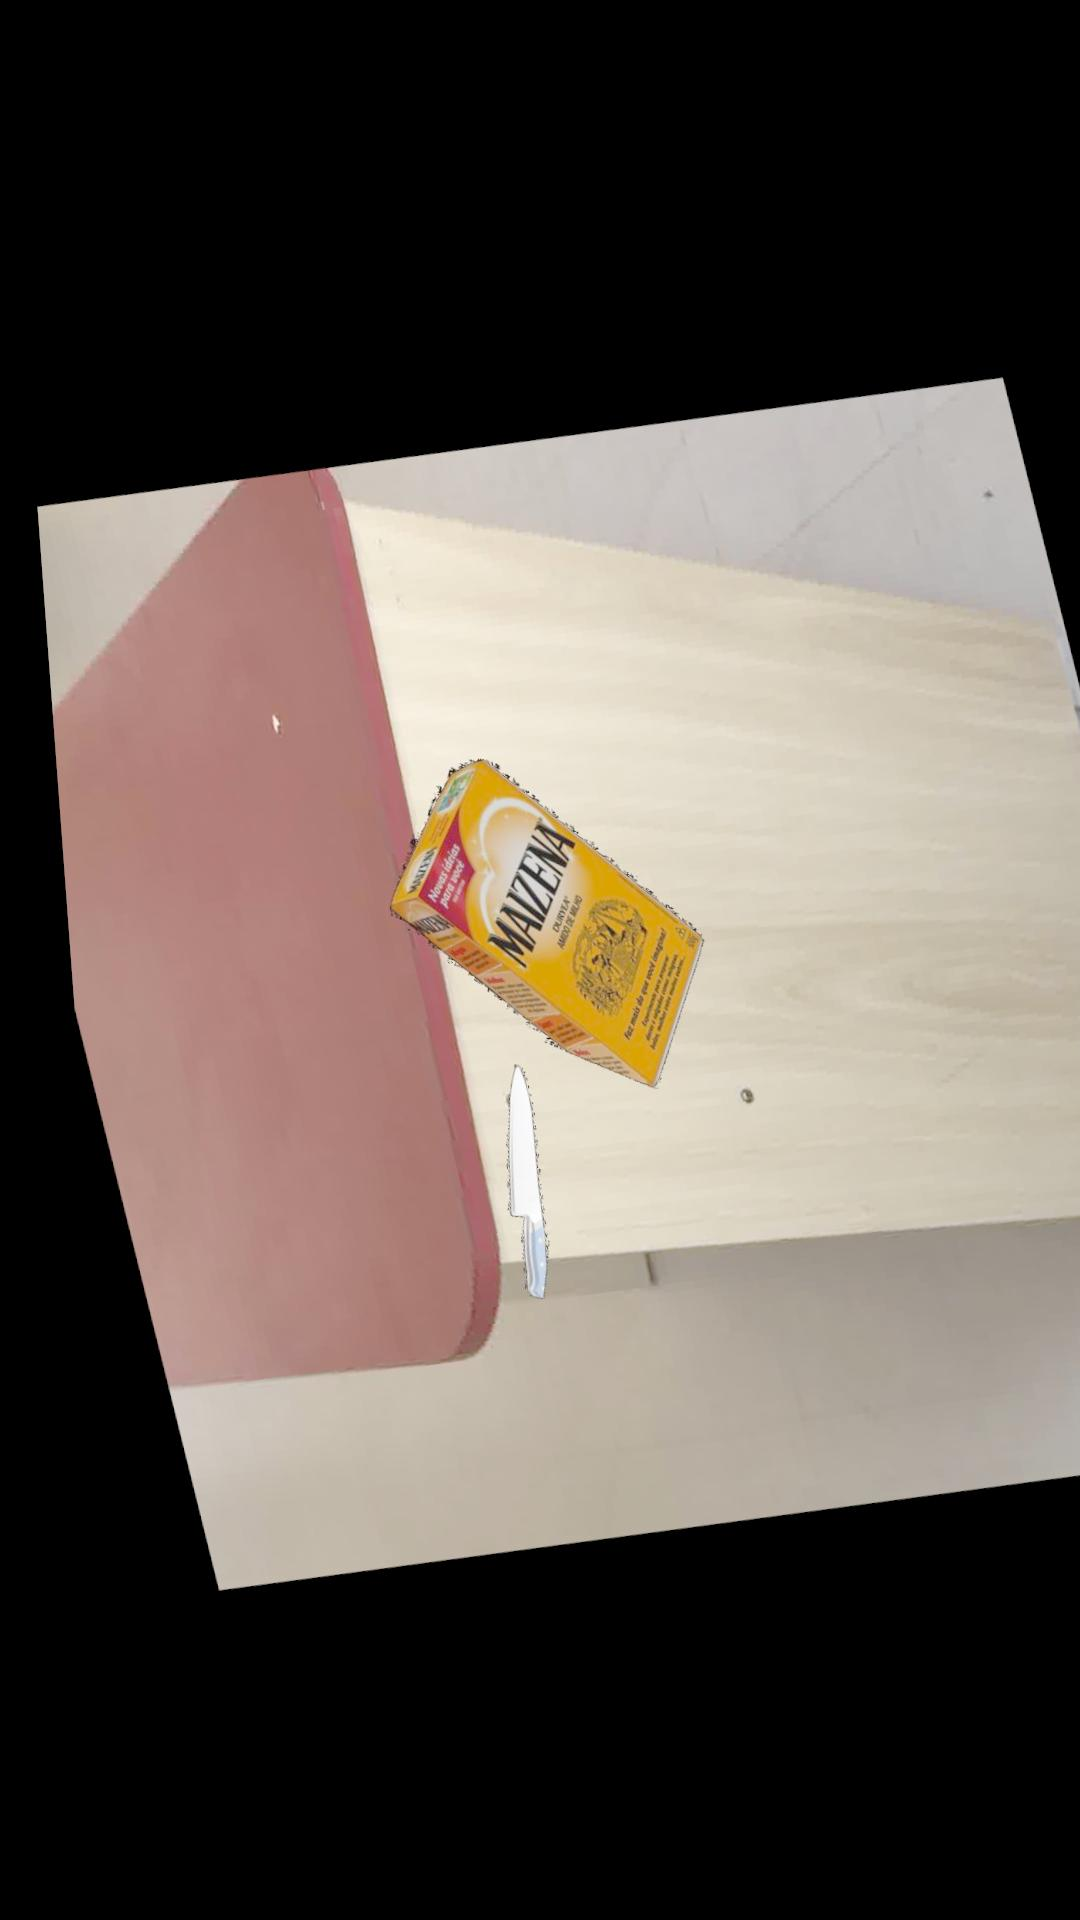knife: (487, 1059, 526, 1294)
